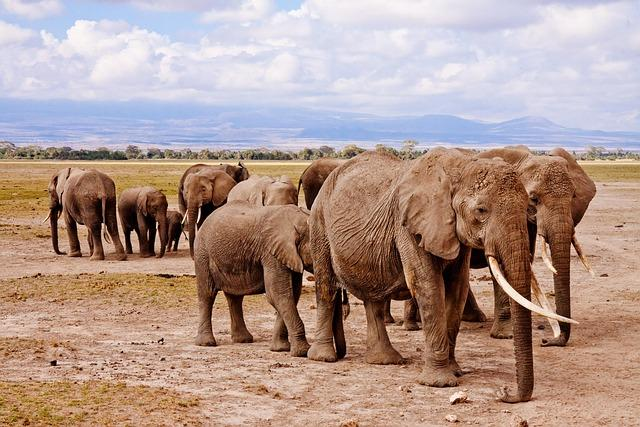Non_Gorille: (22, 28, 589, 408)
